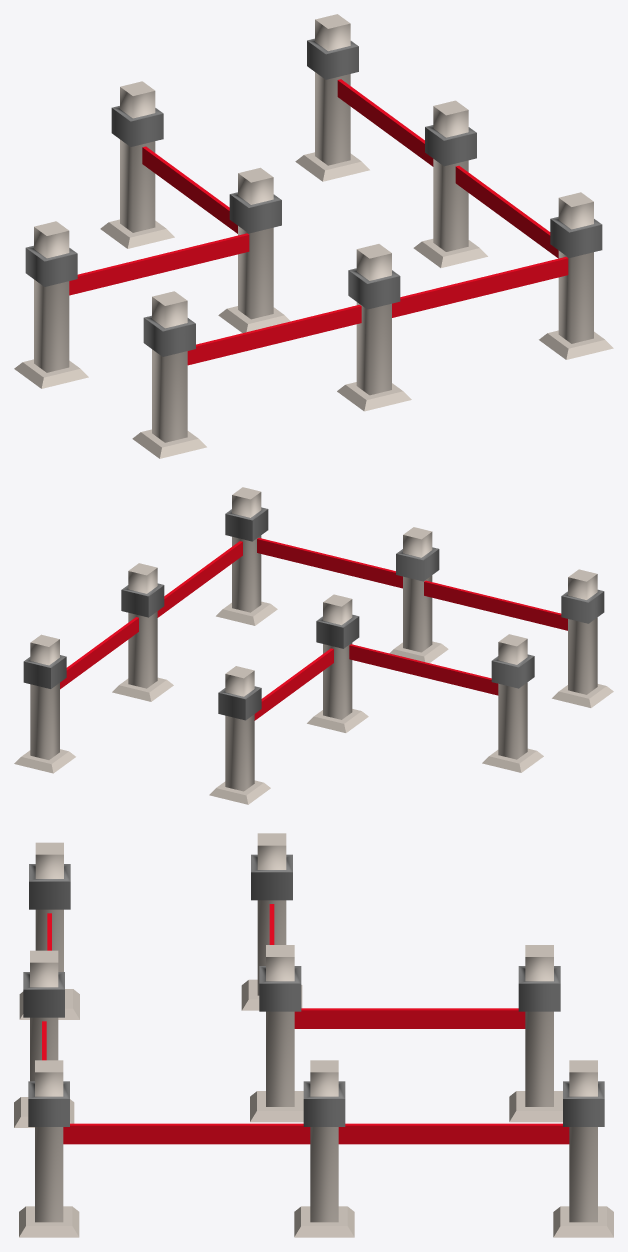
Rendered from SM_Limiting_Tapes.fbx.
3 renders of one model, top to bottom at view 1: azimuth 30°, elevation 25°; view 2: azimuth 150°, elevation 25°; view 3: azimuth 270°, elevation 25°, orthographic. The views are drawn at different scales.
Parts seen in each view (by area): view 1: SM_Limiting_Tapes; view 2: SM_Limiting_Tapes; view 3: SM_Limiting_Tapes.
Boxes of the visible parts, box(x1,y1,x2,y2) form: SM_Limiting_Tapes: box(14, 14, 613, 458); SM_Limiting_Tapes: box(14, 487, 613, 804); SM_Limiting_Tapes: box(14, 833, 613, 1237).
Size of the model in its own units: 314 by 92.07 by 316.
